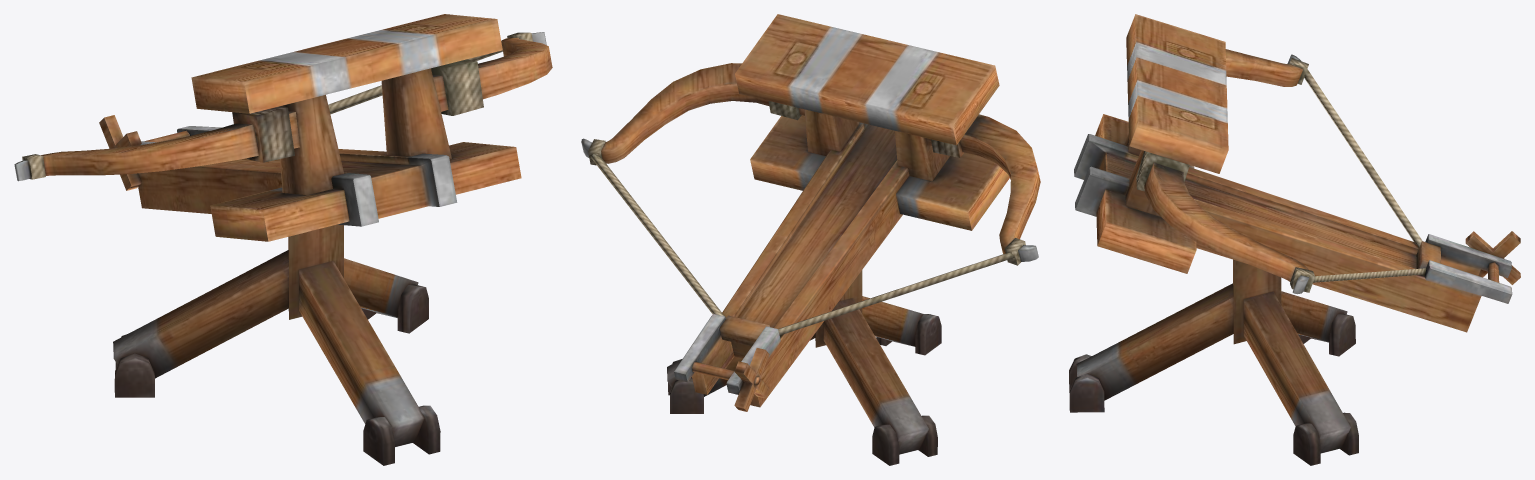
File: weapon-ironweapons.glb
The picture shows the model from 3 angles, left to right: view 1: azimuth 30°, elevation 25°; view 2: azimuth 150°, elevation 25°; view 3: azimuth 270°, elevation 25°; orthographic projection. The views are drawn at different scales.
Size of the model in its own units: 2.58 by 1.76 by 2.18.
1 material, 1 textured.
